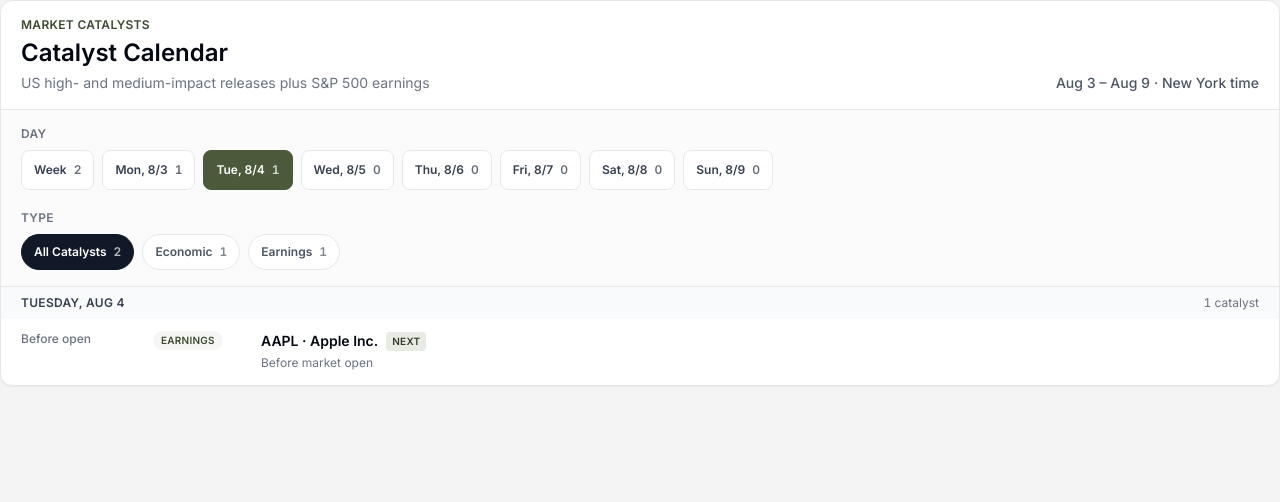
CatalystCalendar › opens on the first useful upcoming day and exposes day/type filters
expect the text "AAPL · Apple Inc." is shown: met, box [261,331,378,351]
expect the text "ISM Manufacturing" is not shown: met
Click the button "Week 2" at (58, 170), box [21,150,94,190]
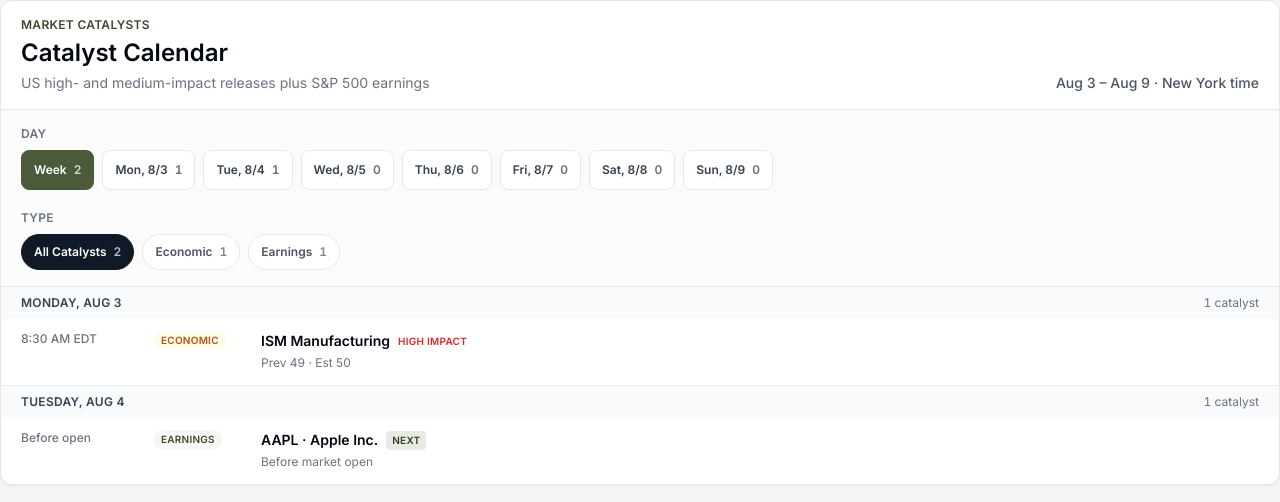
expect the text "ISM Manufacturing" is shown: met, box [261,331,390,351]
Click the button "economic 1" at (191, 252), box [142,234,240,270]
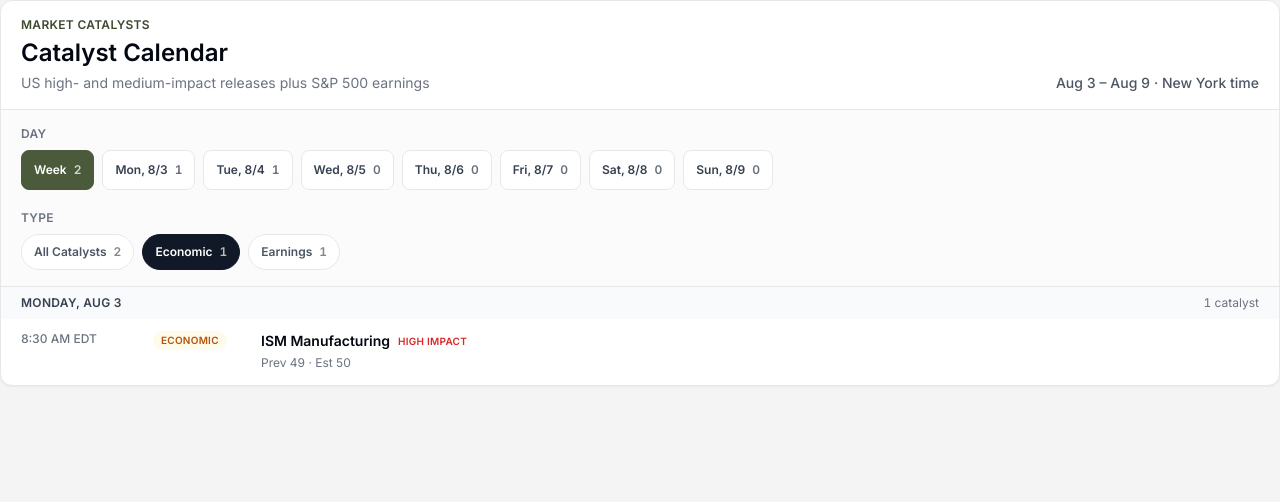
expect the text "ISM Manufacturing" is shown: met, box [261,331,390,351]
expect the link "AAPL · Apple Inc." is gone: met
